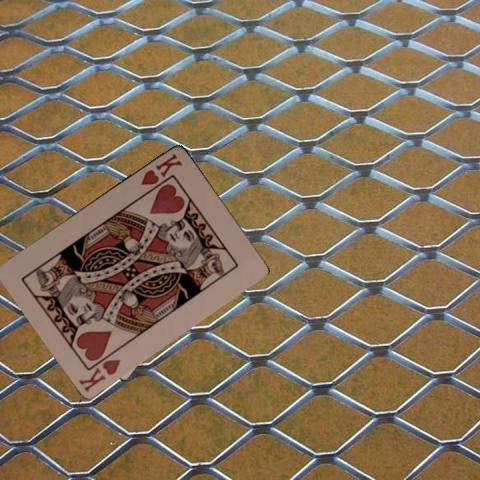Kh: (75, 356, 122, 393), (138, 150, 184, 187)
